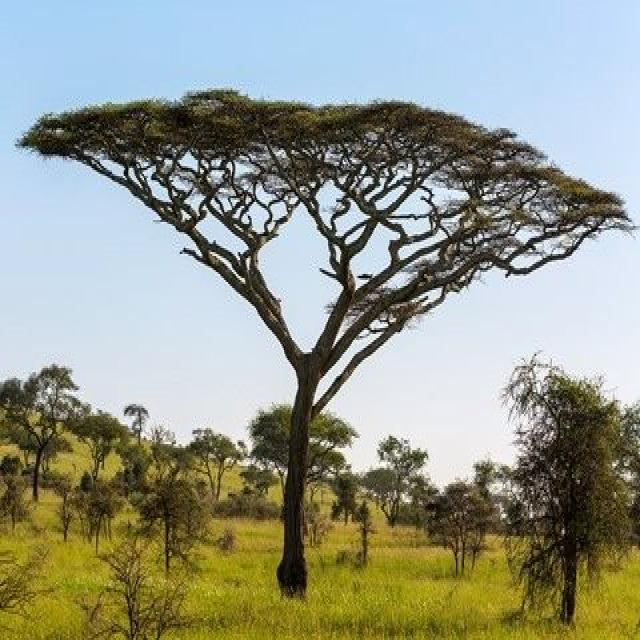Acacia: (27, 95, 611, 366), (502, 373, 621, 605)
